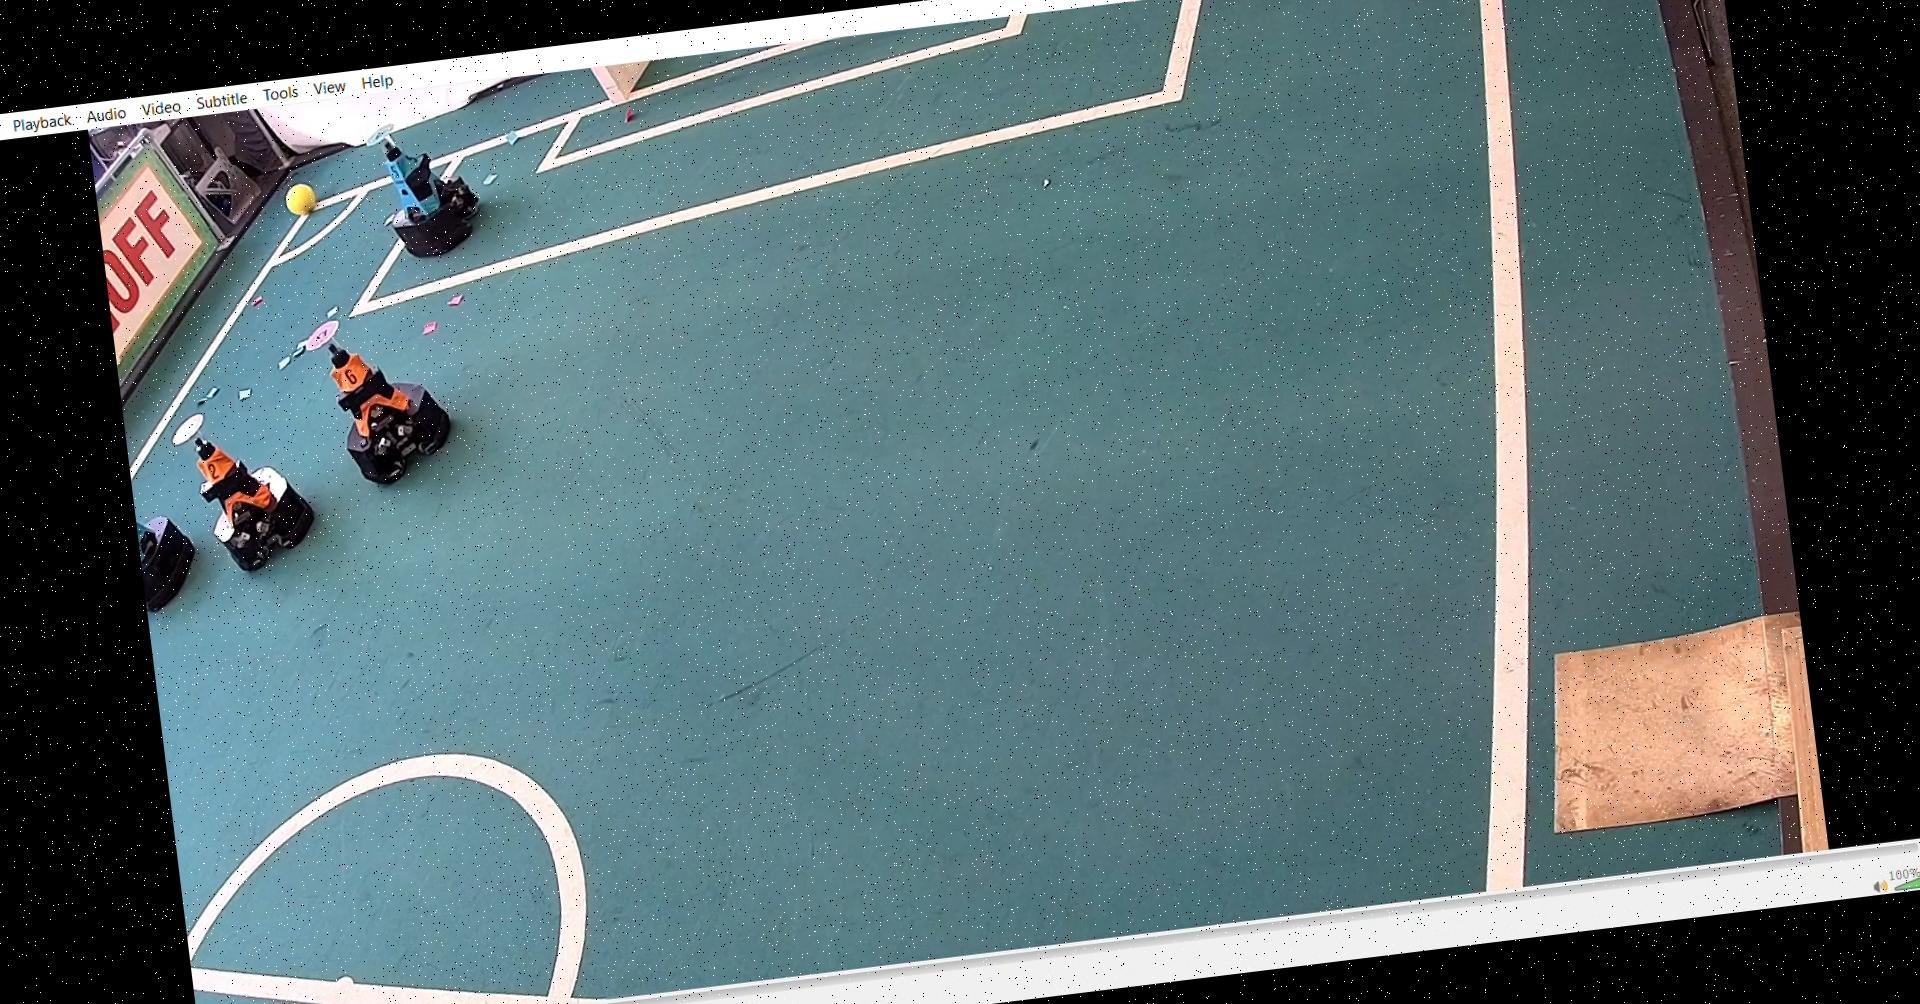Ball: (290, 178, 328, 215)
Team_Blue: (367, 109, 497, 264)
Team_Red: (295, 294, 462, 490), (165, 393, 325, 580)
